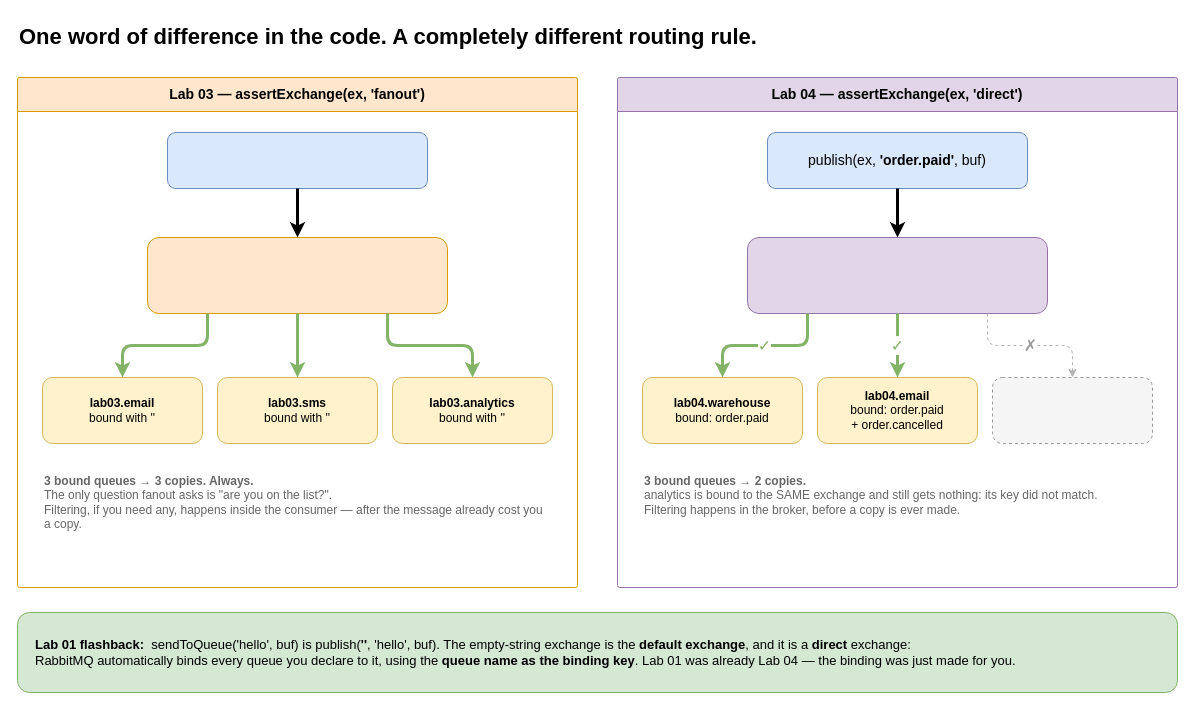
Image size: 1195x710. Some labels were removed from this diagram. Here are the shapes that lost their labels. From the top down, the centre of each, then its label:
the point at 297,160: publish(ex, '' , buf)
the point at 297,275: fanout exchange does not even LOOK at the key
the point at 897,275: direct exchange bindingKey === 'order.paid' ?
the point at 1072,410: lab04.analytics bound: order.created
